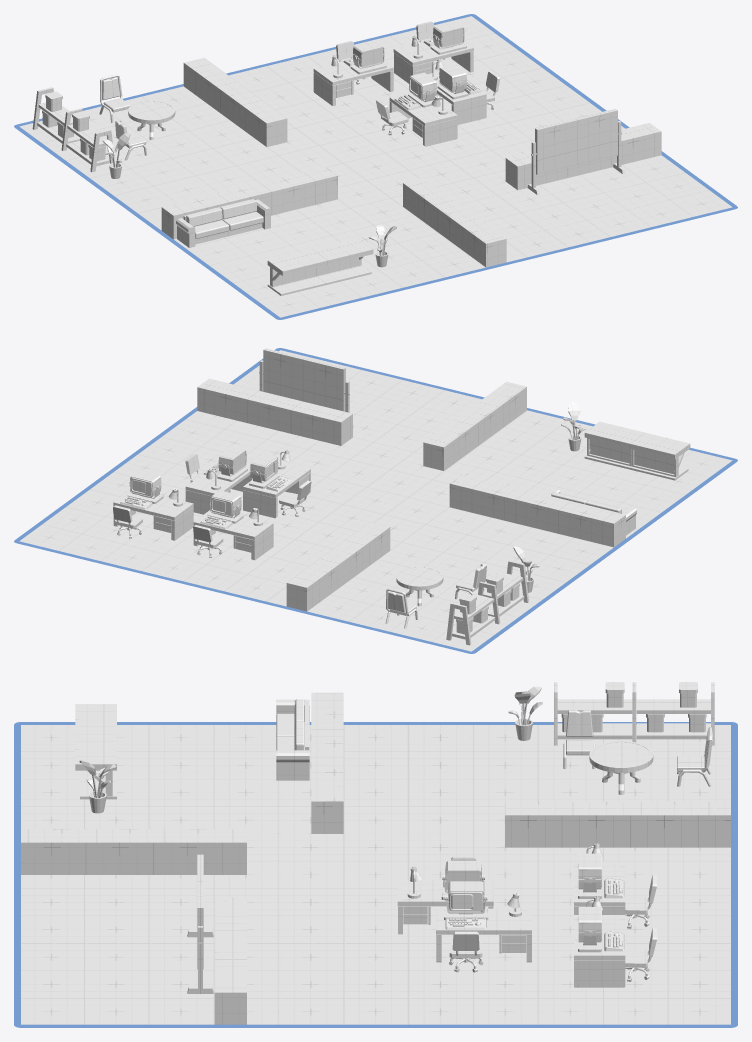
File: office.glb
The picture shows the model from 3 angles, top to bottom: view 1: azimuth 30°, elevation 25°; view 2: azimuth 150°, elevation 25°; view 3: azimuth 270°, elevation 25°; orthographic projection. The views are drawn at different scales.
Visible parts, largest first — view 1: static-floor, colored-border, static-board, static-counter, static-cabinet, static-sofa, static-work-desk.001, static-work-desk.003, static-work-desk.002, static-cafe-table, static-work-desk.004, static-pc (+6 smaller); view 2: static-floor, colored-border, static-board, static-counter, static-cabinet, static-work-desk.002, static-work-desk.003, static-work-desk.001, static-work-desk.004, static-pc.002, static-pc.001, static-cafe-table (+8 smaller); view 3: static-floor, colored-border, static-cabinet, static-counter, static-sofa, static-work-desk.002, static-work-desk.004, static-work-desk.003, static-pc.003, static-cafe-table, static-pc.002, static-pc.001 (+10 smaller).
Part boxes in pixels (left/top/right/bottom): static-floor: left=19, top=16, right=732, bottom=317; colored-border: left=14, top=14, right=737, bottom=319; static-board: left=527, top=108, right=625, bottom=194; static-counter: left=267, top=238, right=373, bottom=295; static-cabinet: left=32, top=87, right=114, bottom=172; static-sofa: left=176, top=199, right=271, bottom=247; static-work-desk.001: left=313, top=61, right=393, bottom=105; static-work-desk.003: left=389, top=92, right=457, bottom=146; static-work-desk.002: left=393, top=41, right=473, bottom=83; static-cafe-table: left=128, top=100, right=175, bottom=139; static-work-desk.004: left=427, top=71, right=486, bottom=124; static-pc: left=394, top=72, right=436, bottom=110; static-floor: left=19, top=350, right=732, bottom=651; colored-border: left=14, top=348, right=737, bottom=653; static-board: left=259, top=348, right=353, bottom=427; static-counter: left=584, top=421, right=690, bottom=480; static-cabinet: left=446, top=560, right=528, bottom=645; static-work-desk.002: left=113, top=490, right=193, bottom=540; static-work-desk.003: left=243, top=461, right=310, bottom=518; static-work-desk.001: left=193, top=510, right=273, bottom=560; static-work-desk.004: left=185, top=466, right=252, bottom=514; static-pc.002: left=120, top=470, right=163, bottom=509; static-pc.001: left=200, top=490, right=243, bottom=529; static-cafe-table: left=396, top=566, right=443, bottom=606; static-floor: left=21, top=692, right=730, bottom=1024; colored-border: left=14, top=722, right=737, bottom=1027; static-cabinet: left=554, top=682, right=714, bottom=745; static-counter: left=75, top=704, right=116, bottom=799; static-sofa: left=276, top=699, right=309, bottom=780; static-work-desk.002: left=574, top=915, right=625, bottom=987; static-work-desk.004: left=436, top=908, right=531, bottom=962; static-work-desk.003: left=397, top=880, right=493, bottom=934; static-pc.003: left=444, top=881, right=488, bottom=929; static-cafe-table: left=589, top=741, right=653, bottom=794; static-pc.002: left=578, top=907, right=624, bottom=952; static-pc.001: left=578, top=853, right=624, bottom=898.
Size of what is drawn, in the model's own units: 10.2 by 1.31 by 10.2.
2 materials, 1 textured.
